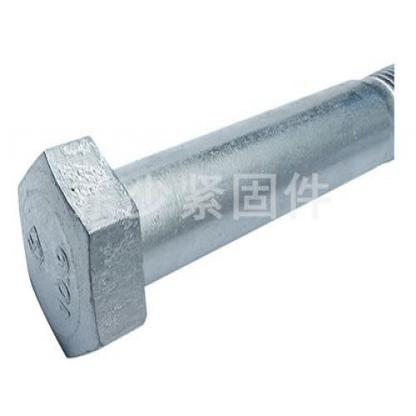FOD: (18, 47, 394, 360)
